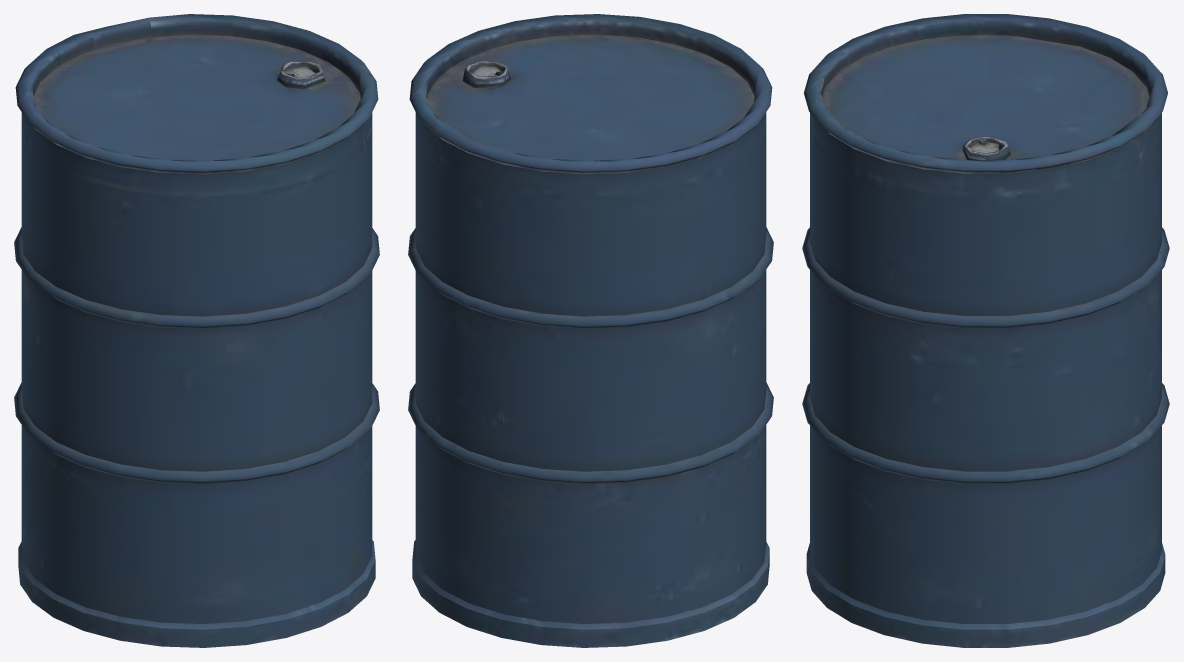
The model's file is barrel_03.glb.
3 views of the same model, side by side, from view 1: azimuth 30°, elevation 25°; view 2: azimuth 150°, elevation 25°; view 3: azimuth 270°, elevation 25° (orthographic).
Visible parts, largest first — view 1: barrel_03; view 2: barrel_03; view 3: barrel_03.
Boxes of the visible parts, x1=… form: barrel_03: x1=14, y1=14, x2=379, y2=647; barrel_03: x1=408, y1=14, x2=773, y2=647; barrel_03: x1=802, y1=14, x2=1169, y2=647.
Bounding box in the file's own units: 0.634 × 0.9305 × 0.6386.
Materials: 1 (1 with a texture image).
